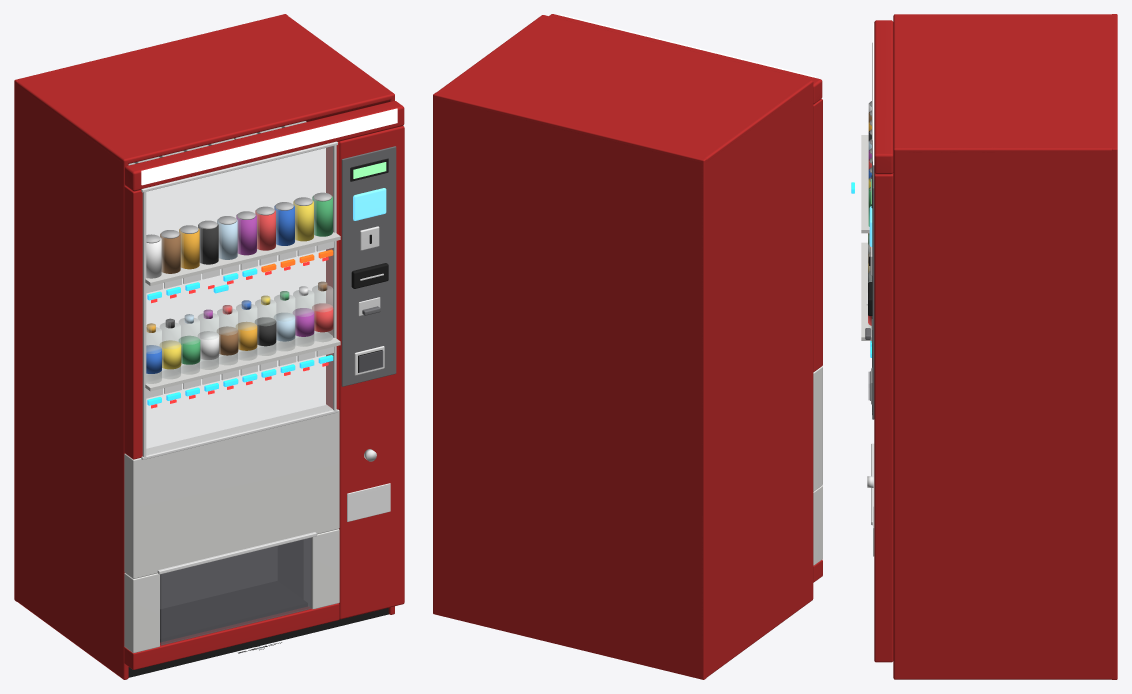
File: vending_machine.glb
The picture shows the model from 3 angles, left to right: view 1: azimuth 30°, elevation 25°; view 2: azimuth 150°, elevation 25°; view 3: azimuth 270°, elevation 25°; orthographic projection. The views are drawn at different scales.
Parts seen in each view (by area): view 1: VM_Cabinet_Shell_SideL, VM_Door_DisplayGlass, VM_Cabinet_Shell_Top, VM_Door_Frame_LowerPanel, VM_Door_DisplayBacklight, VM_Door_Frame_RightPanel, VM_Dispense_Flap, VM_Pay_Bezel, VM_Door_Frame_Left, VM_Dispense_Bin, VM_Door_Frame_Kick, VM_Dispense_BinBack (+37 smaller); view 2: VM_Cabinet_Shell_Back, VM_Cabinet_Shell_SideL, VM_Cabinet_Shell_Top, VM_Door_Frame_Left, VM_Door_Frame_Top, VM_Door_Frame_LowerPanel, VM_Dispense_Frame_L, VM_Cabinet_Shell_SideR; view 3: VM_Cabinet_Shell_SideR, VM_Cabinet_Shell_Top, VM_Door_Frame_RightPanel, VM_Cabinet_Shell_Back, VM_Door_Frame_Top, VM_HMI_Shelf_R1, VM_Pay_Bezel, VM_HMI_Shelf_R2.
Boxes of the visible parts, x1,y1,x2,y2 form: VM_Cabinet_Shell_SideL: [15, 79, 128, 679]; VM_Door_DisplayGlass: [146, 146, 332, 454]; VM_Cabinet_Shell_Top: [15, 15, 394, 163]; VM_Door_Frame_LowerPanel: [124, 404, 339, 578]; VM_Door_DisplayBacklight: [146, 148, 325, 448]; VM_Door_Frame_RightPanel: [338, 126, 404, 619]; VM_Dispense_Flap: [160, 537, 311, 645]; VM_Pay_Bezel: [341, 146, 396, 386]; VM_Door_Frame_Left: [124, 186, 142, 459]; VM_Dispense_Bin: [160, 581, 307, 642]; VM_Door_Frame_Kick: [124, 603, 339, 669]; VM_Dispense_BinBack: [160, 546, 276, 609]; VM_Cabinet_Shell_Back: [433, 92, 706, 679]; VM_Cabinet_Shell_SideL: [700, 80, 813, 677]; VM_Cabinet_Shell_Top: [434, 15, 813, 163]; VM_Door_Frame_Left: [813, 99, 822, 372]; VM_Door_Frame_Top: [549, 14, 822, 104]; VM_Door_Frame_LowerPanel: [813, 366, 822, 491]; VM_Dispense_Frame_L: [813, 485, 822, 565]; VM_Cabinet_Shell_SideR: [434, 15, 544, 583]; VM_Cabinet_Shell_SideR: [893, 147, 1115, 679]; VM_Cabinet_Shell_Top: [893, 14, 1115, 152]; VM_Door_Frame_RightPanel: [874, 172, 893, 662]; VM_Cabinet_Shell_Back: [1112, 14, 1117, 679]; VM_Door_Frame_Top: [874, 20, 893, 174]; VM_HMI_Shelf_R1: [861, 135, 869, 233]; VM_Pay_Bezel: [872, 161, 874, 419]; VM_HMI_Shelf_R2: [861, 242, 871, 340].
Bounding box in the file's own units: 1 × 1.83 × 0.832.
